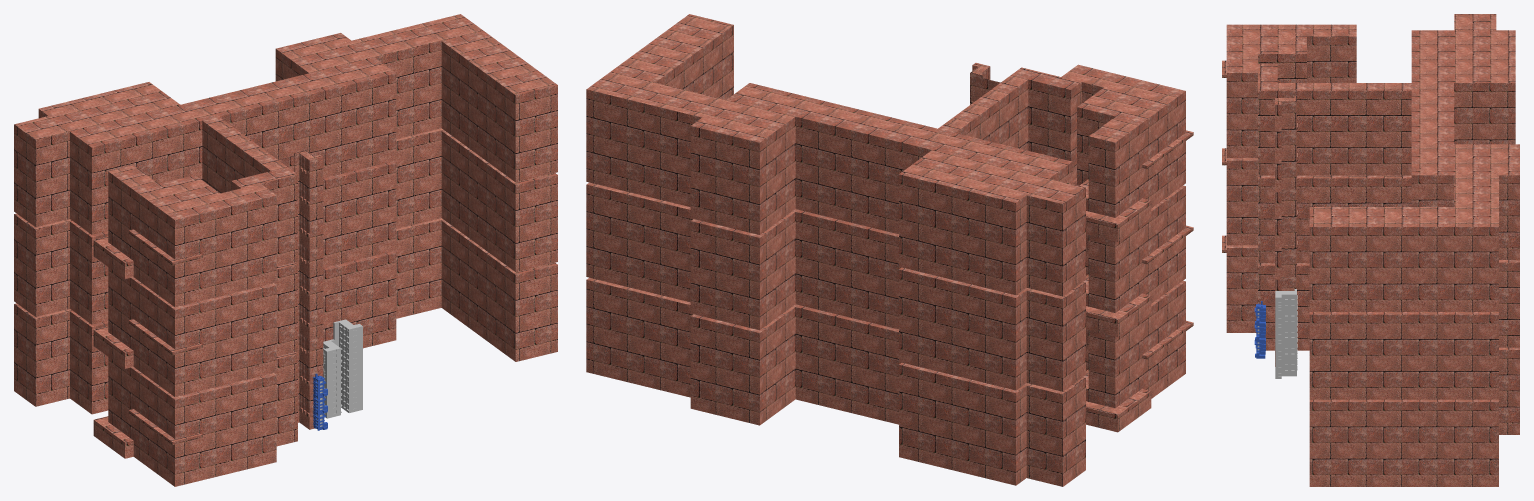
The model's file is decor06.obj.
3 views of the same model, side by side, from view 1: azimuth 30°, elevation 25°; view 2: azimuth 150°, elevation 25°; view 3: azimuth 270°, elevation 25° (orthographic). The views are drawn at different scales.
Parts seen in each view (by area): view 1: Cube.027, Cube.028, Cube.026, Cube.025; view 2: Cube.027; view 3: Cube.027, Cube.028, Cube.025.
Boxes of the visible parts, bbox=[...] form: Cube.027: bbox=[14, 14, 557, 486]; Cube.028: bbox=[333, 319, 362, 412]; Cube.026: bbox=[323, 339, 341, 418]; Cube.025: bbox=[313, 373, 327, 430]; Cube.027: bbox=[586, 14, 1193, 486]; Cube.027: bbox=[1222, 14, 1519, 486]; Cube.028: bbox=[1275, 289, 1297, 378]; Cube.025: bbox=[1254, 301, 1265, 358].
Size of the model in its own units: 1082 by 621 by 640.
4 materials, 1 textured.
